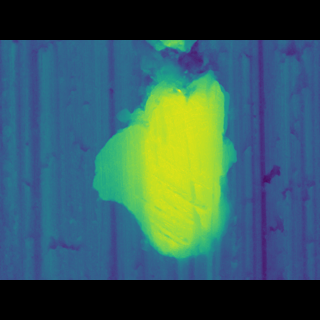Loch: (91, 93, 237, 236)
